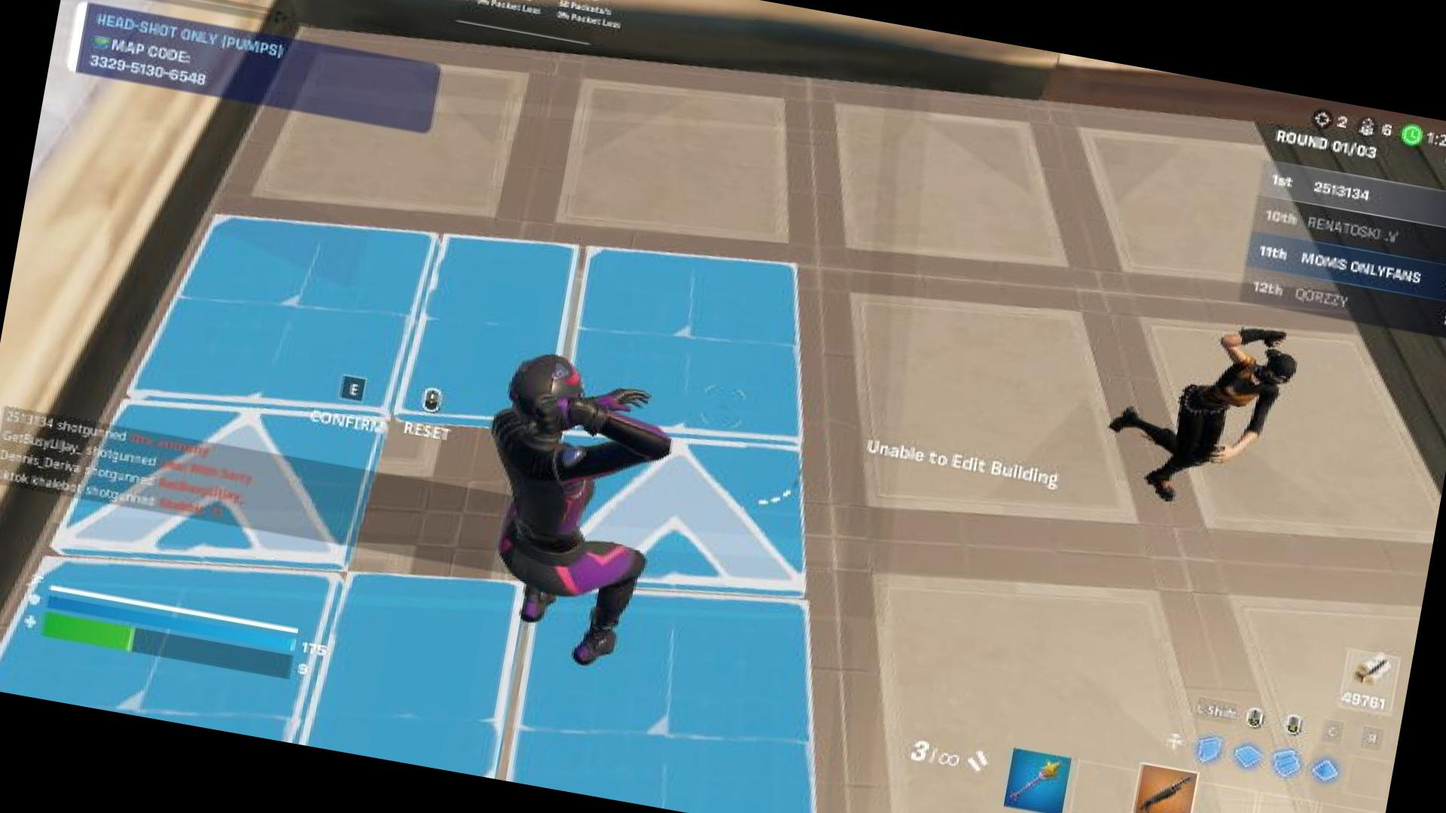player: (1091, 293, 1321, 536)
